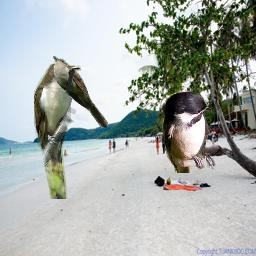Cuckoo: (34, 58, 81, 199), (53, 56, 108, 128)
Swallow: (161, 89, 217, 173)
